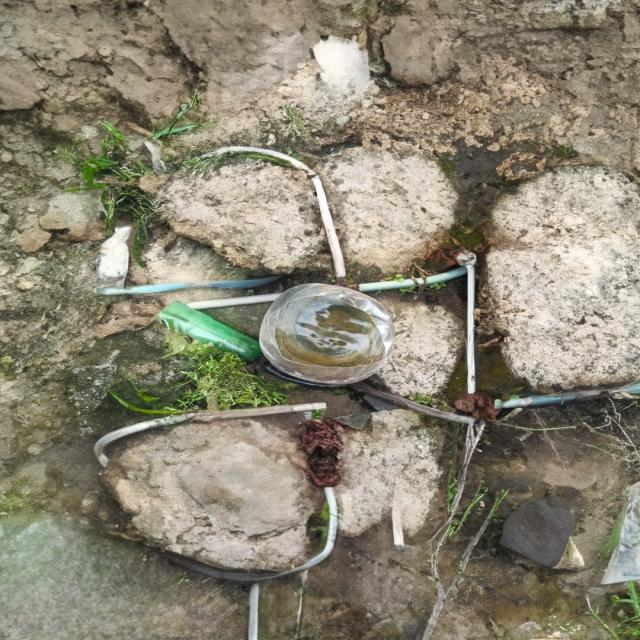Breeding Place: (86, 285, 264, 450), (252, 275, 403, 401)
